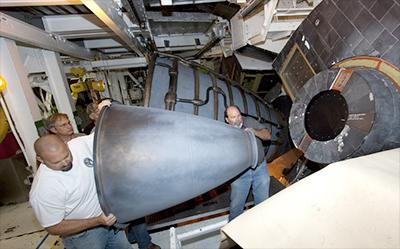thruster: (92, 97, 264, 230)
